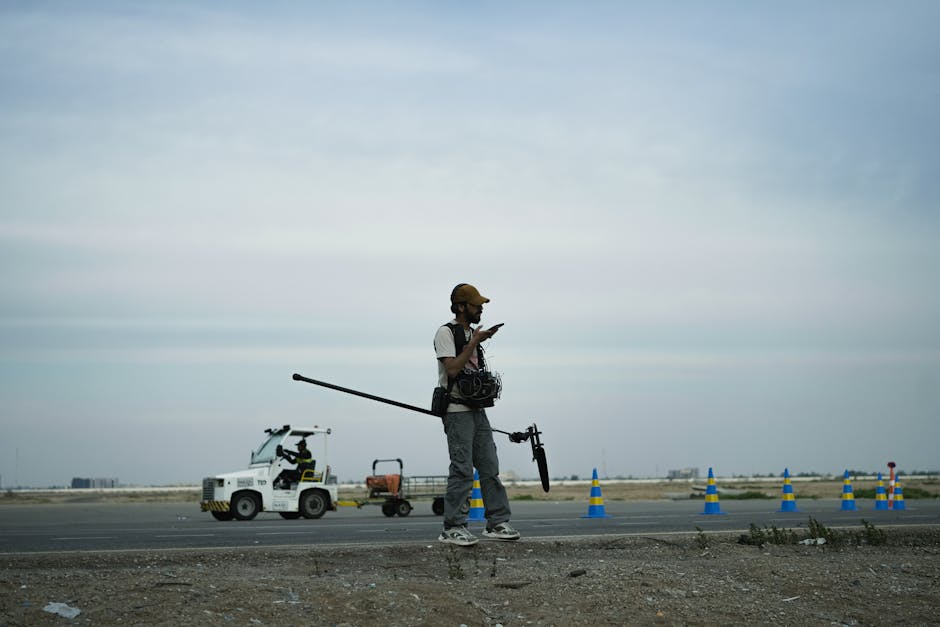traffic_cone: (579, 467, 613, 520), (698, 467, 727, 516), (466, 468, 488, 524), (776, 467, 800, 513), (839, 469, 859, 511), (874, 473, 890, 510), (891, 475, 906, 510)
